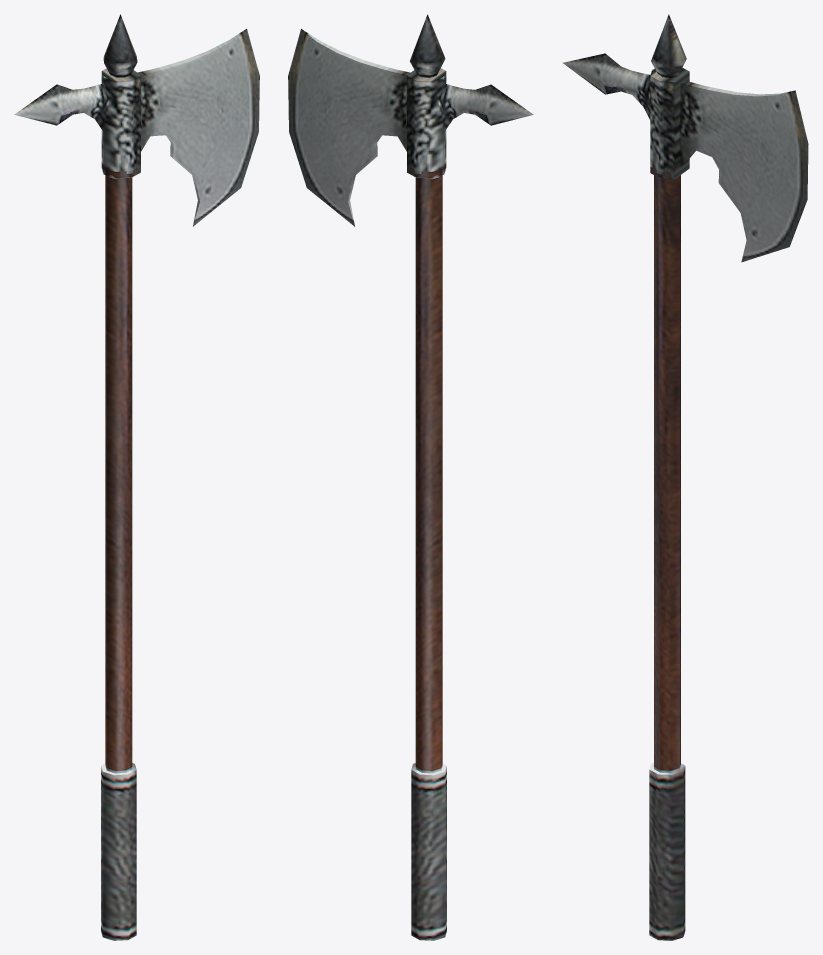
File: Heavy Axe.fbx
The picture shows the model from 3 angles, left to right: view 1: azimuth 30°, elevation 25°; view 2: azimuth 150°, elevation 25°; view 3: azimuth 330°, elevation 25°; orthographic projection.
Visible parts, largest first — view 1: Heavy Axe; view 2: Heavy Axe; view 3: Heavy Axe.
Boxes of the visible parts, bbox=[...] form: Heavy Axe: bbox=[14, 14, 259, 940]; Heavy Axe: bbox=[288, 14, 533, 940]; Heavy Axe: bbox=[563, 14, 808, 940].
Size of the model in its own units: 0.3477 by 1.24 by 0.0499.
